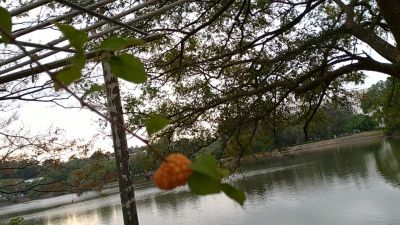eggs: (153, 155, 193, 188)
